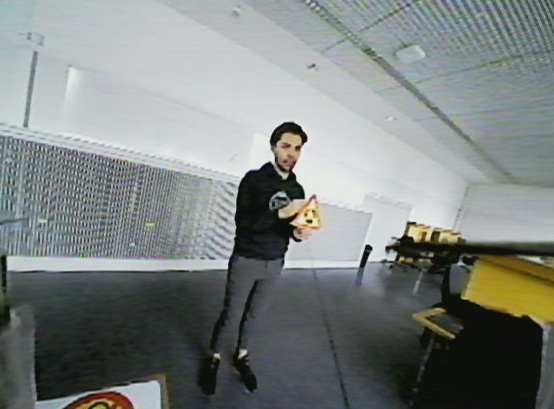roundabout_warning: (290, 187, 323, 234)
